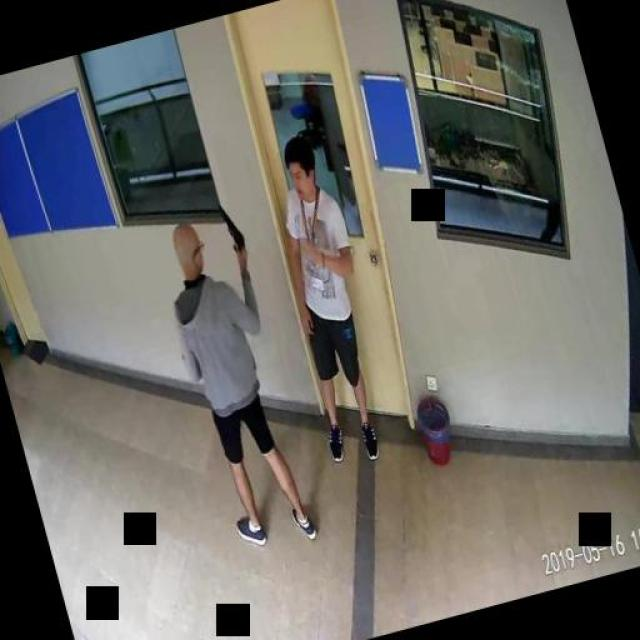gun: (214, 198, 245, 254)
